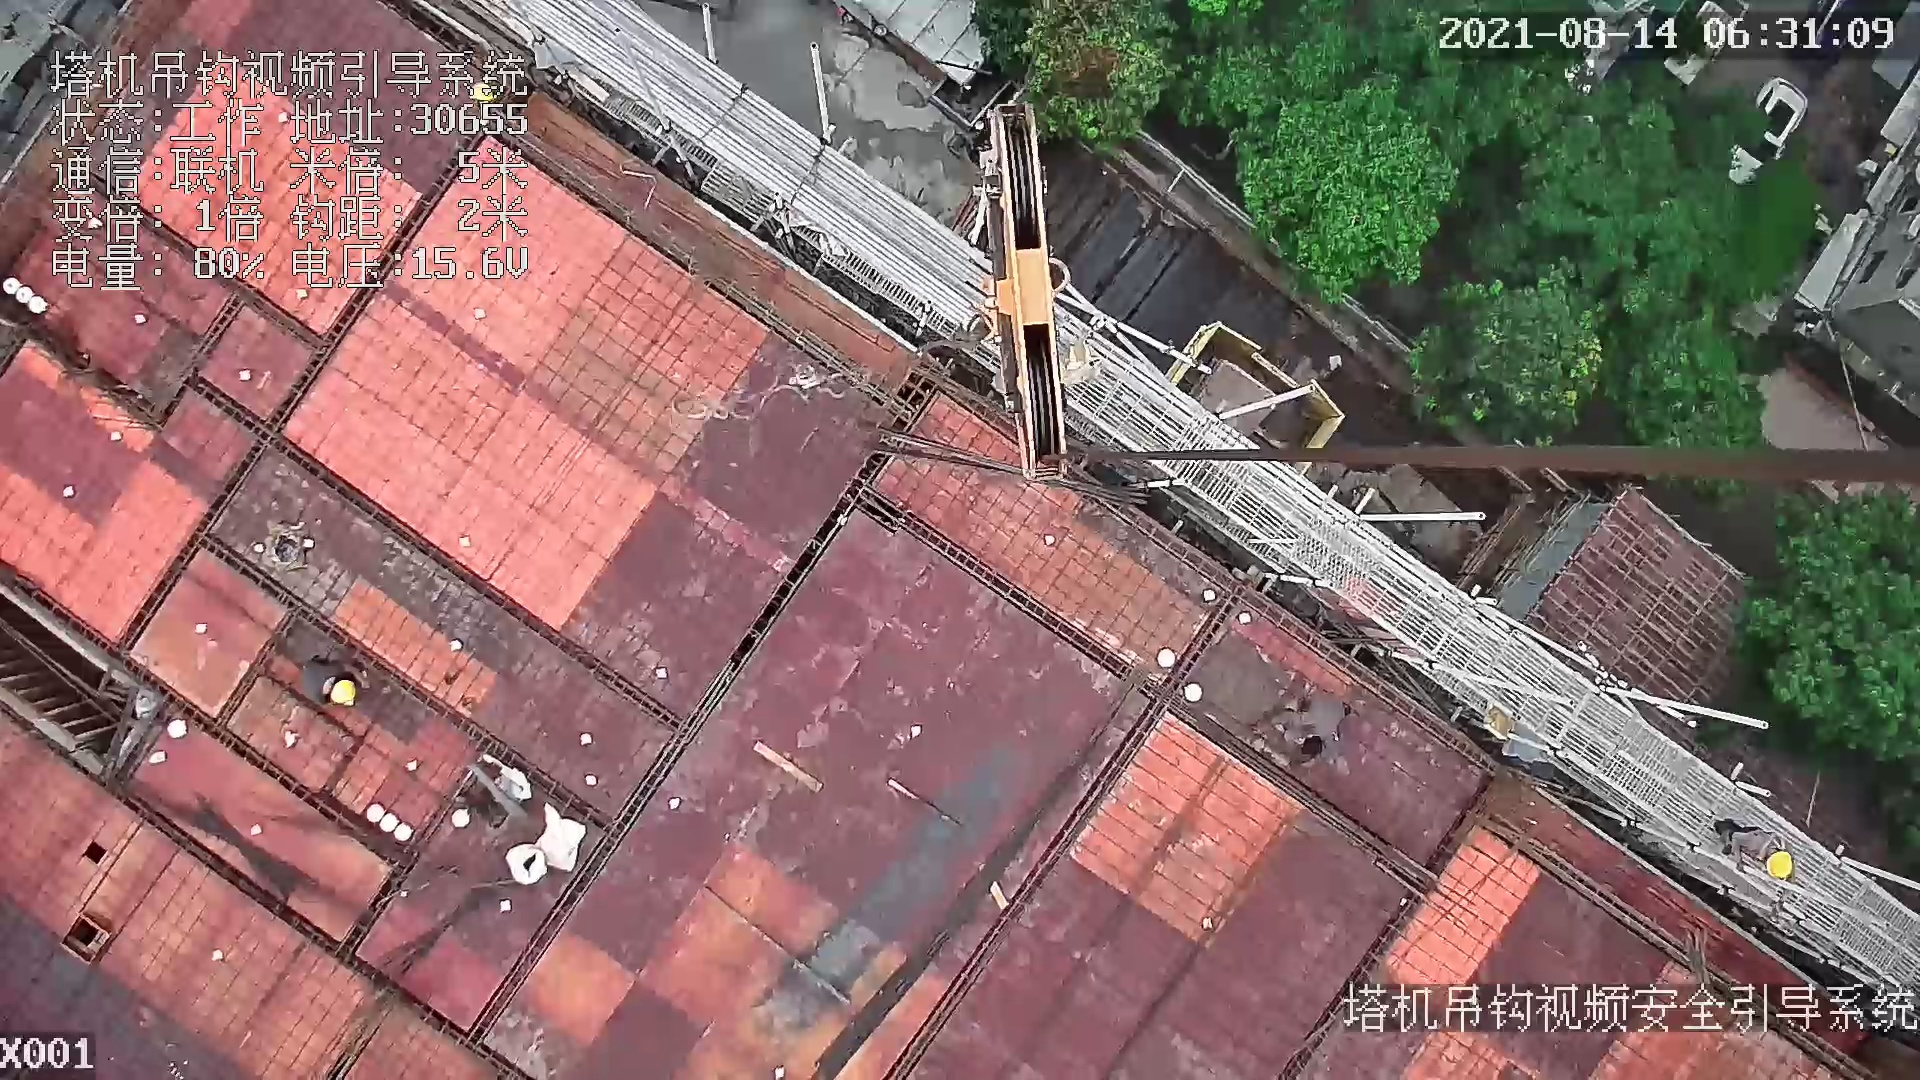helmet: (328, 678, 359, 705), (1768, 853, 1794, 879)
hook: (956, 101, 1081, 491)
person: (1706, 815, 1804, 887), (288, 650, 373, 710)
